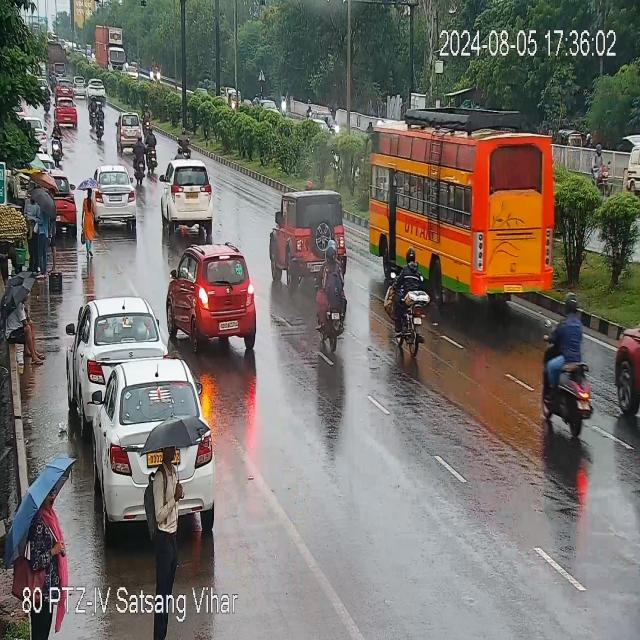2-wheelers: (543, 305, 591, 436), (313, 244, 351, 350), (388, 251, 427, 350), (594, 140, 611, 195), (170, 130, 196, 163), (134, 136, 148, 184), (89, 101, 106, 140), (50, 124, 64, 164), (147, 130, 158, 173), (141, 104, 152, 132), (329, 113, 341, 134)
bus: (365, 116, 565, 306)
car: (78, 320, 217, 543), (166, 239, 260, 343), (69, 296, 166, 384), (272, 180, 322, 289), (162, 162, 225, 235), (81, 172, 138, 234), (616, 307, 640, 435), (56, 172, 77, 237), (116, 112, 146, 151), (56, 97, 78, 126), (84, 78, 110, 102)
pedestrian: (147, 438, 190, 580), (16, 486, 66, 593), (3, 279, 42, 364), (25, 182, 56, 276), (82, 188, 95, 254)
truck: (93, 21, 126, 70)
